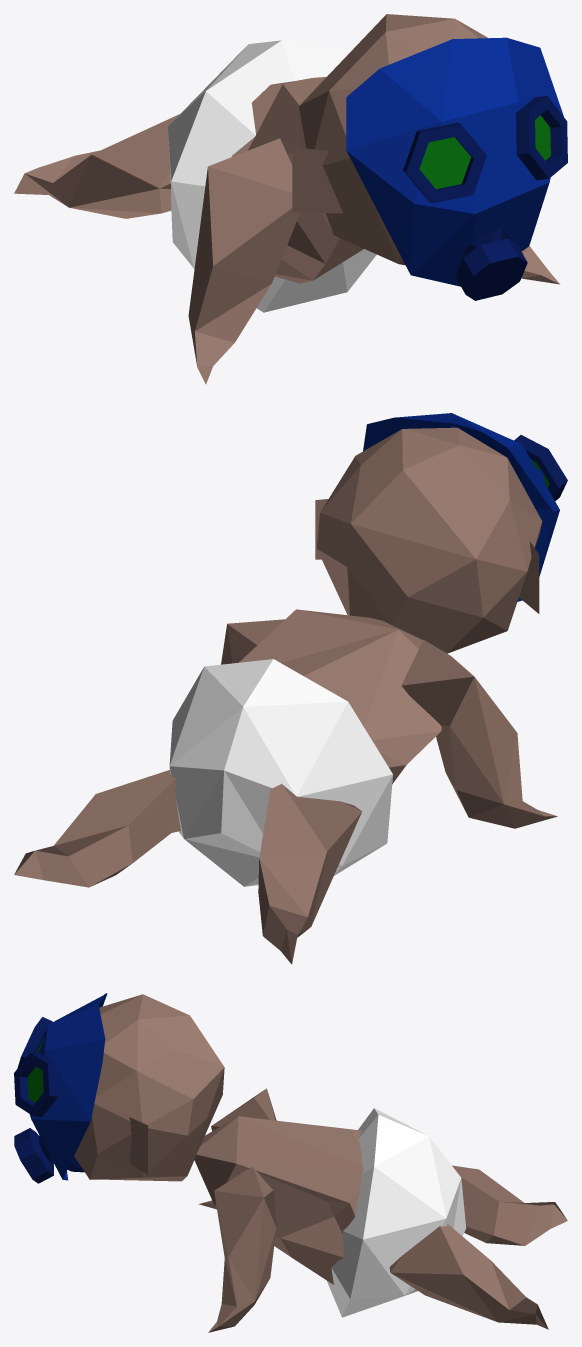
File: GasB.FBX
3 renders of one model, top to bottom at view 1: azimuth 30°, elevation 25°; view 2: azimuth 150°, elevation 25°; view 3: azimuth 270°, elevation 25°, orthographic. The views are drawn at different scales.
Parts seen in each view (by area): view 1: GasB; view 2: GasB; view 3: GasB.
Boxes of the visible parts, box(x1,y1,x2,y2) form: GasB: box(14, 14, 567, 384); GasB: box(14, 413, 567, 964); GasB: box(14, 993, 567, 1332).
Bounding box in the file's own units: 26.98 × 46.21 × 26.95.
